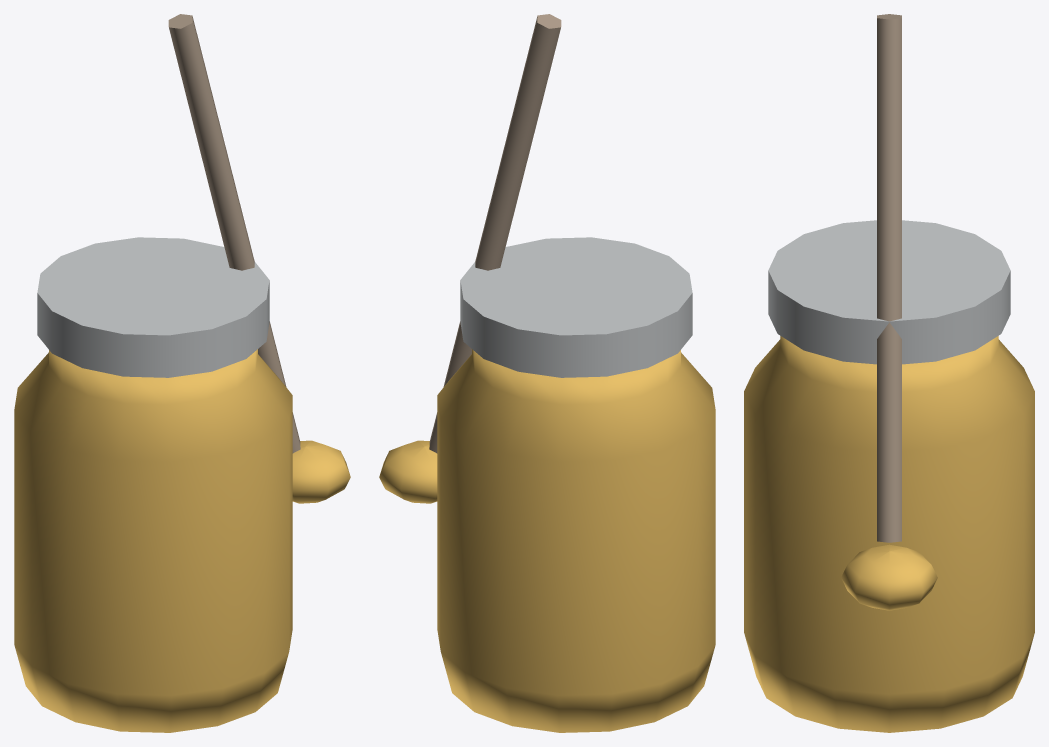
The model's file is Honey_jar.glb.
The picture shows the model from 3 angles, left to right: view 1: azimuth 30°, elevation 25°; view 2: azimuth 150°, elevation 25°; view 3: azimuth 270°, elevation 25°; orthographic projection. The views are drawn at different scales.
Visible parts, largest first — view 1: Honey_jar; view 2: Honey_jar; view 3: Honey_jar.
Part boxes in pixels (box(x1,y1,x2,y2)): Honey_jar: box(14, 14, 350, 732); Honey_jar: box(379, 14, 715, 732); Honey_jar: box(744, 14, 1034, 732).
Size of the model in its own units: 0.155 by 0.3082 by 0.12.
